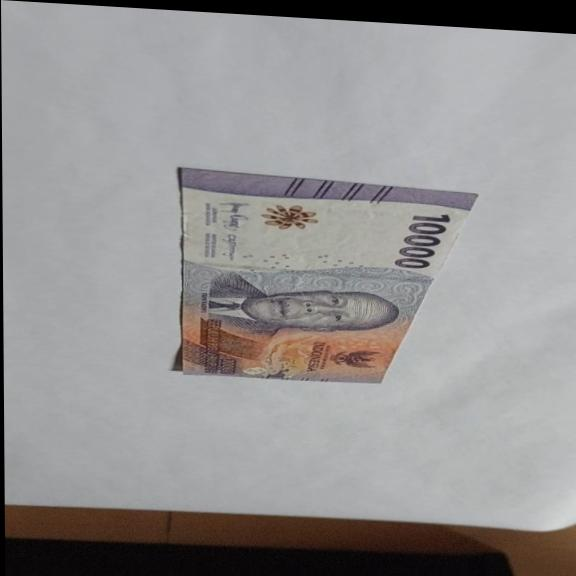Kertas: (175, 167, 481, 394), (392, 210, 453, 272)
